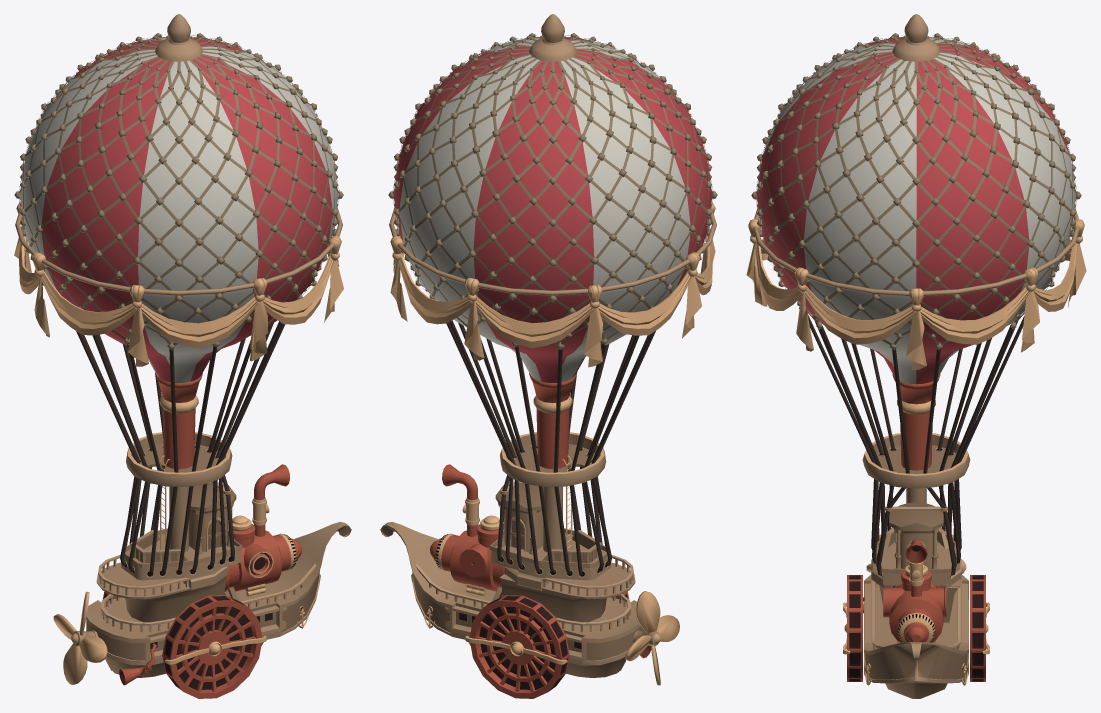
File: Air Balloon.fbx
3 renders of one model, left to right at view 1: azimuth 30°, elevation 25°; view 2: azimuth 150°, elevation 25°; view 3: azimuth 270°, elevation 25°, orthographic.
Parts seen in each view (by area): view 1: balloon, ropes on balloon, knots, ship body, wheel.001, upper floor, horiz lace.015, balloon bottom, rope vertical.005, horiz lace.014, wheel.002, belt on balloon (+28 smaller); view 2: balloon, ropes on balloon, knots, ship body, wheel.001, upper floor, horiz lace.012, balloon bottom, rope vertical.005, wheel.002, belt on balloon, horiz lace.013 (+26 smaller); view 3: balloon, ropes on balloon, knots, ship body, wheel.001, upper floor, cabin, horiz lace.009, horiz lace.010, rope vertical, balloon bottom, rope vertical.014 (+20 smaller).
Part boxes in pixels (x1,y1,x2,y2): balloon: (19,37,338,382); ropes on balloon: (18,35,339,345); knots: (14,33,343,350); ship body: (86,522,351,665); wheel.001: (103,591,262,698); upper floor: (126,432,232,486); horiz lace.015: (141,296,257,348); balloon bottom: (155,373,202,469); rope vertical.005: (76,331,148,571); horiz lace.014: (41,270,136,335); wheel.002: (119,597,252,689); belt on balloon: (15,207,342,295); balloon: (393,37,712,382); ropes on balloon: (392,35,713,345); knots: (388,33,717,349); ship body: (380,522,644,665); wheel.001: (469,591,629,698); upper floor: (500,432,606,486); horiz lace.012: (475,297,593,348); balloon bottom: (529,373,576,469); rope vertical.005: (583,331,655,571); wheel.002: (479,597,612,689); belt on balloon: (389,207,716,295); horiz lace.013: (598,270,691,335); balloon: (756,37,1076,384); ropes on balloon: (755,35,1077,345); knots: (751,33,1081,349); ship body: (864,574,968,683); wheel.001: (847,575,985,681); upper floor: (862,433,970,488); cabin: (889,502,943,568); horiz lace.009: (805,286,915,344); horiz lace.010: (920,285,1029,344); rope vertical: (820,326,1012,563); balloon bottom: (892,374,940,470); rope vertical.014: (876,349,956,575).
Size of the model in its own units: 239 by 474 by 221.
